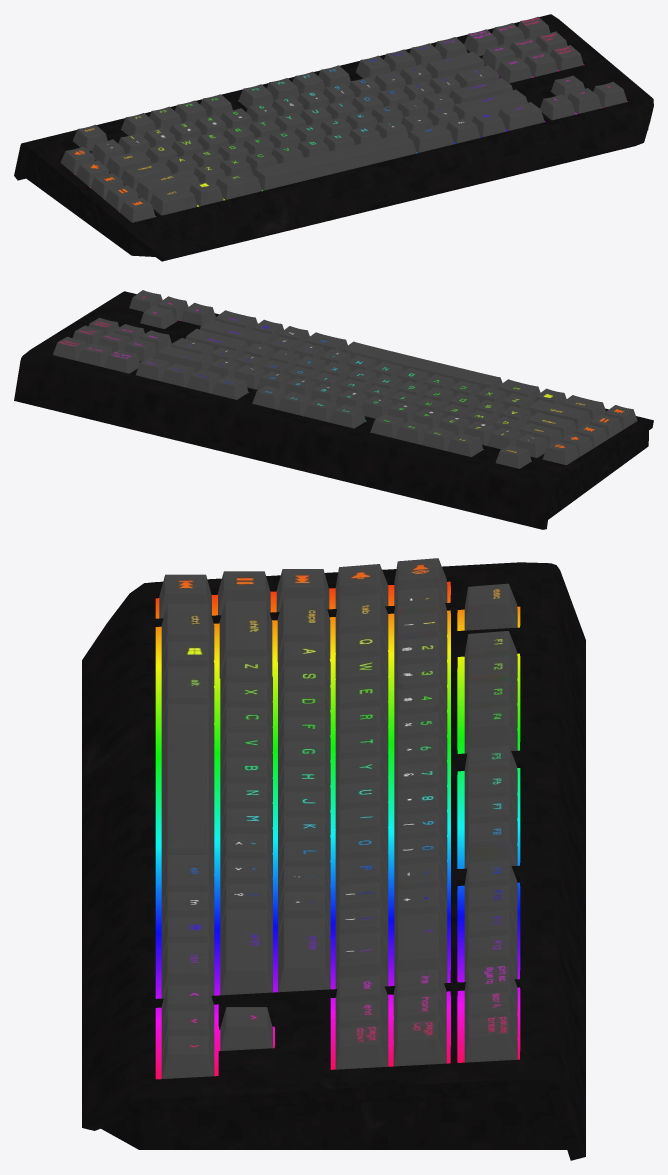
Rendered from kb-logitech-pro-x-tkl.glb.
3 renders of one model, top to bottom at view 1: azimuth 30°, elevation 25°; view 2: azimuth 150°, elevation 25°; view 3: azimuth 270°, elevation 25°, orthographic. The views are drawn at different scales.
Parts seen in each view (by area): view 1: body; view 2: body; view 3: body.
Part boxes in pixels (x1=…): body: x1=14, y1=14, x2=653, y2=261; body: x1=14, y1=290, x2=653, y2=529; body: x1=82, y1=558, x2=585, y2=1160.
Bounding box in the file's own units: 0.361 × 0.034 × 0.149.
1 material, 1 textured.
